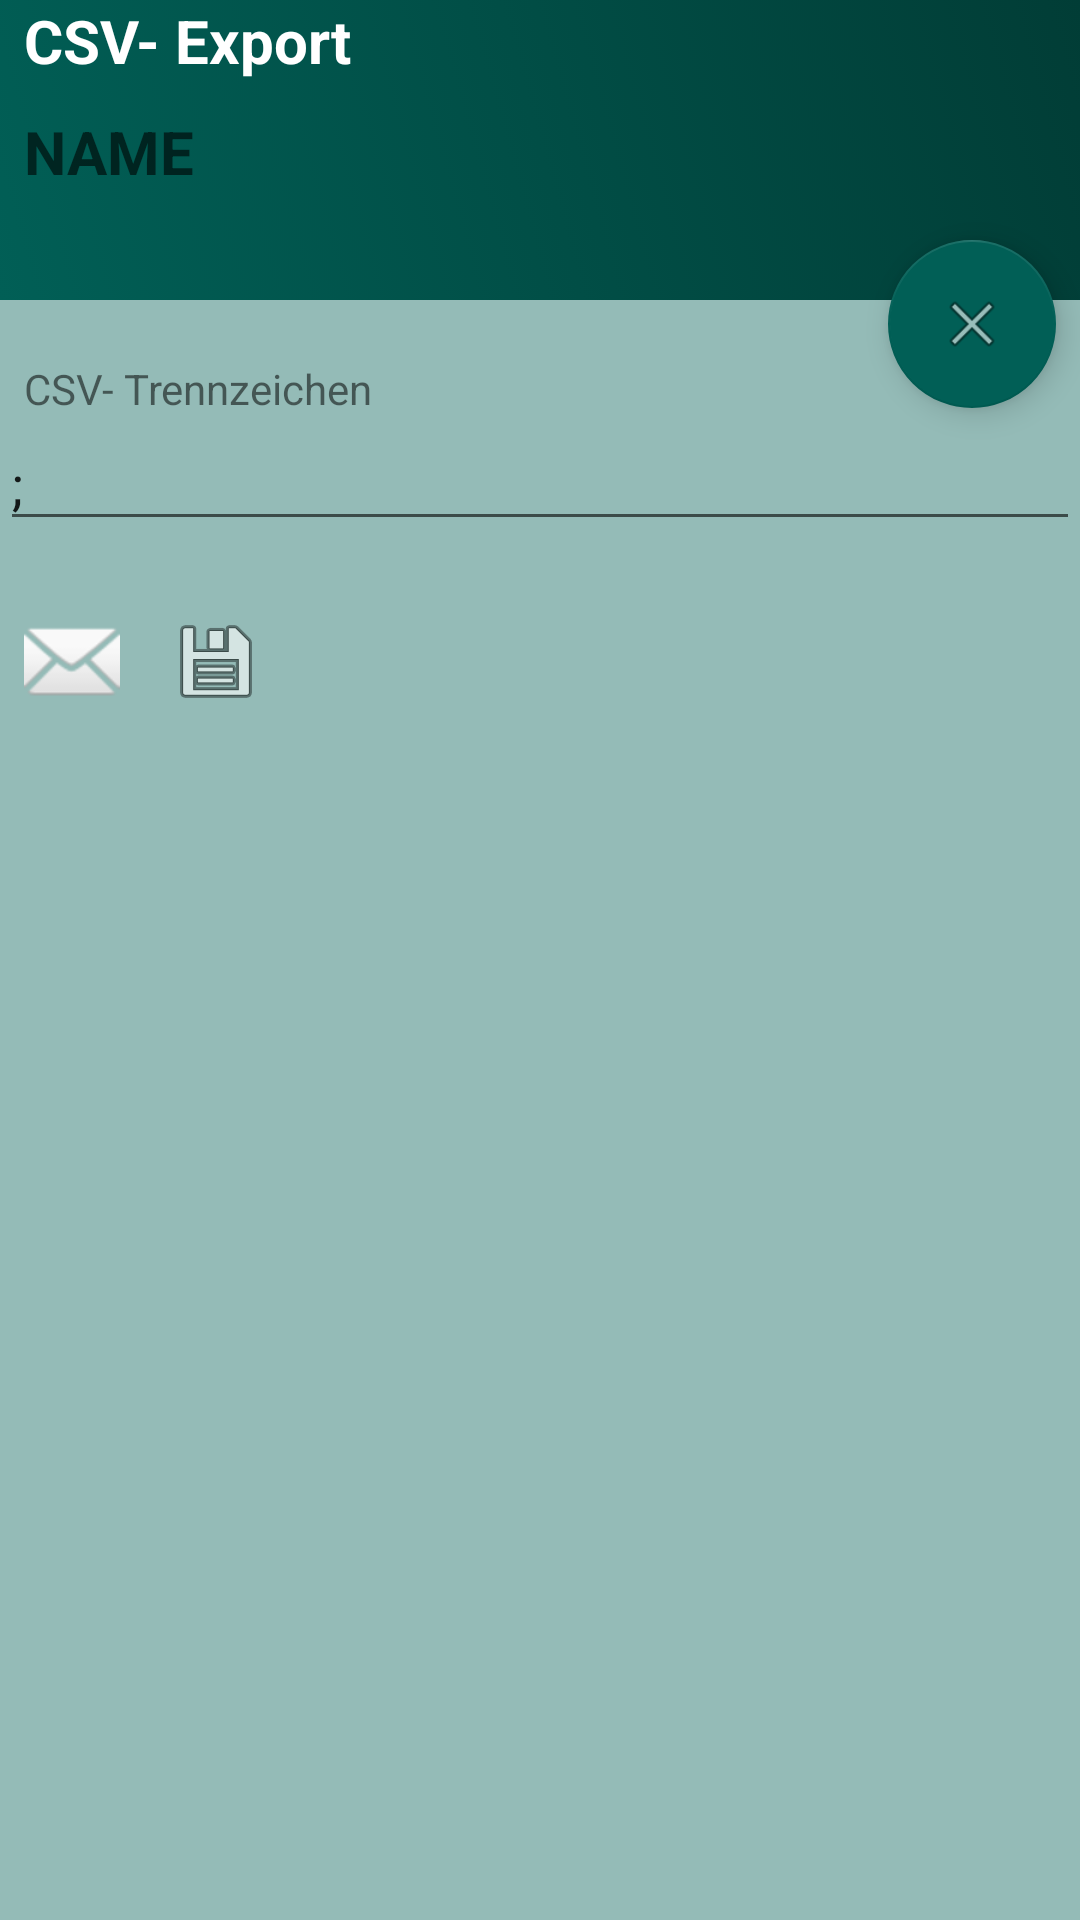

Point at icon controls on the screen. Image size 1080w x 1920h, points as point (x, y).
close clear cancel: point (972, 324)
email: point (72, 661)
save: point (216, 661)
